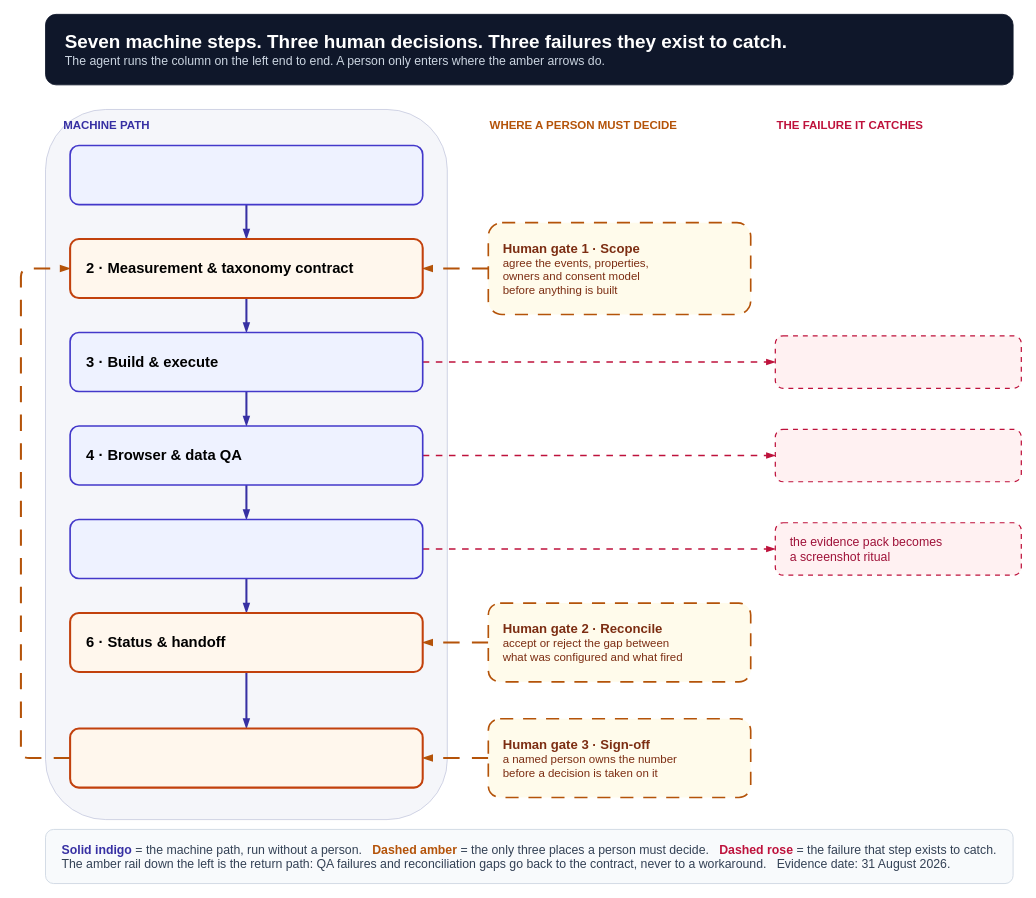
Some shapes in this 1036 by 898 pixel diagram are drawn without their labels. Each missing label, with the centre of its shape:
1 · Brief: [246,174]
5 · Evidence pack: [246,548]
7 · Reporting: [246,757]
QA is skipped because the tag “looked fine”: [898,455]
the agent invents a tidy answer the data never gave: [898,362]
